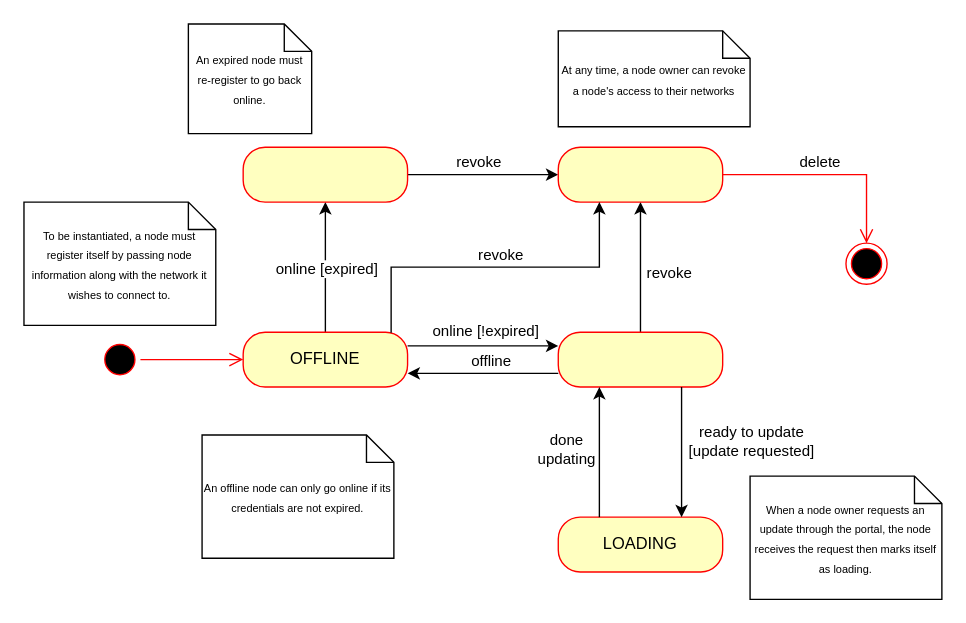
Image size: 966x623. Some labels were removed from this diagram. Here are the shapes that lost their labels. From the top down, the box of each, then its label:
(242, 146, 408, 202): EXPIRED
(557, 146, 723, 202): REVOKED
(557, 331, 723, 387): ONLINE
